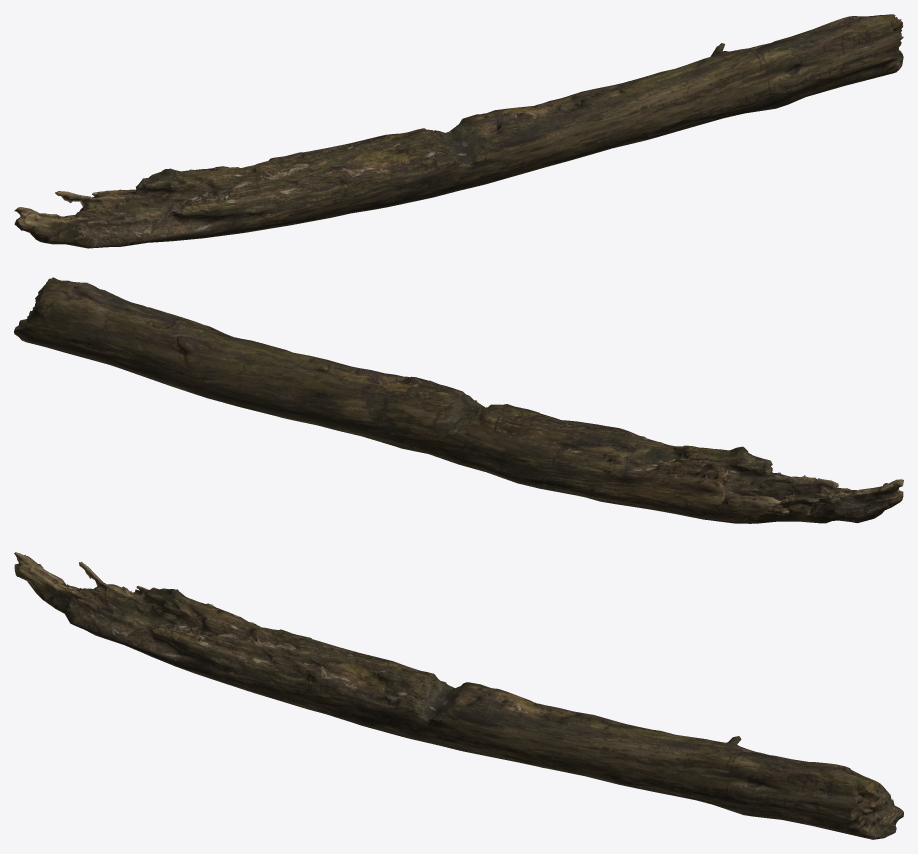
Rendered from log_dead.glb.
3 views of the same model, one above another, from view 1: azimuth 30°, elevation 25°; view 2: azimuth 150°, elevation 25°; view 3: azimuth 330°, elevation 25° (orthographic).
Parts seen in each view (by area): view 1: dead_tree_trunk; view 2: dead_tree_trunk; view 3: dead_tree_trunk.
Part boxes in pixels (x1,y1,x2,y2): dead_tree_trunk: [14, 14, 903, 248]; dead_tree_trunk: [14, 277, 903, 523]; dead_tree_trunk: [14, 552, 903, 839].
Bounding box in the file's own units: 3.05 × 0.2905 × 0.2771.
Materials: 1 (1 with a texture image).
